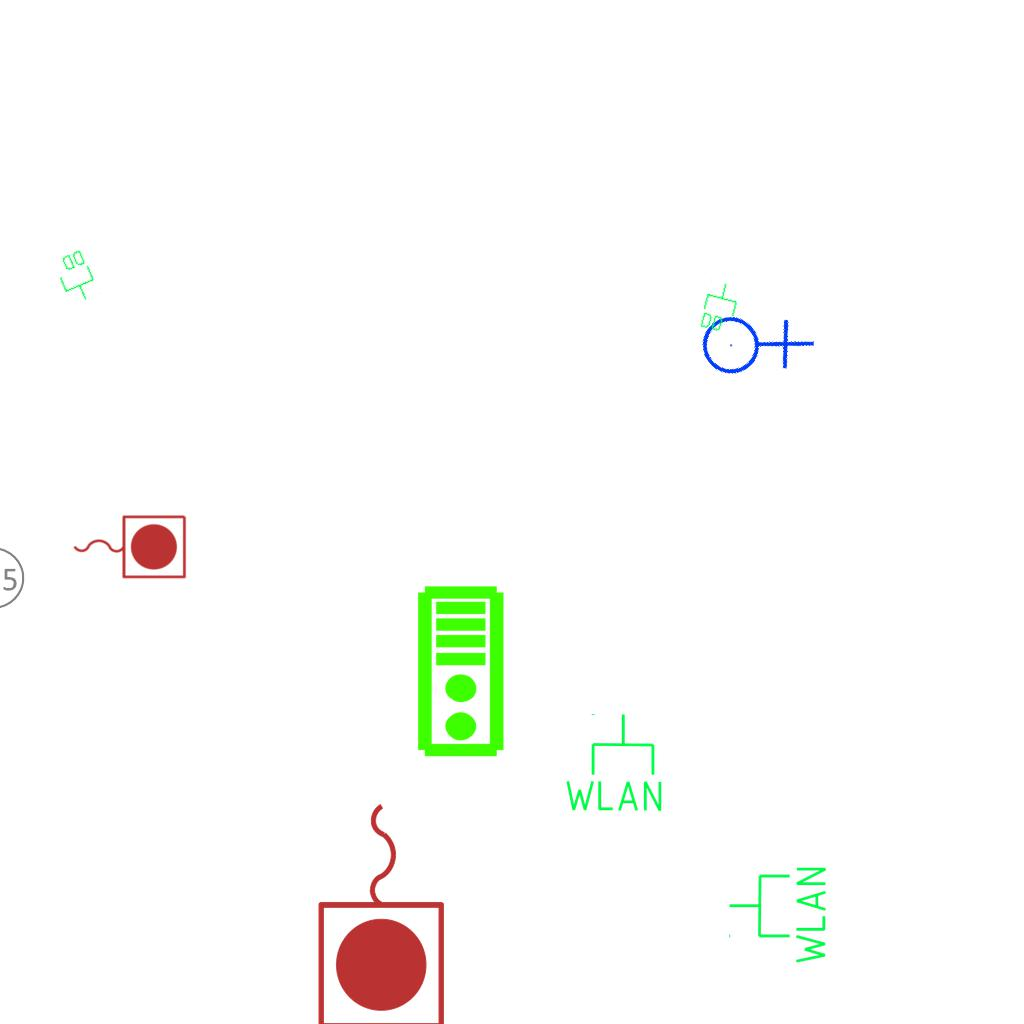Datenanschluss_zweifach: (50, 246, 103, 308), (696, 277, 743, 337)
Elektroanschluss_allgemein_230V_Geraeteanschlussdose_230V: (683, 272, 820, 410)
Gegensprechanlage_mit_Video: (415, 584, 510, 760)
WLAN: (726, 863, 830, 968), (561, 711, 666, 815)
Zugtaster: (311, 793, 455, 1024), (68, 510, 190, 582)
